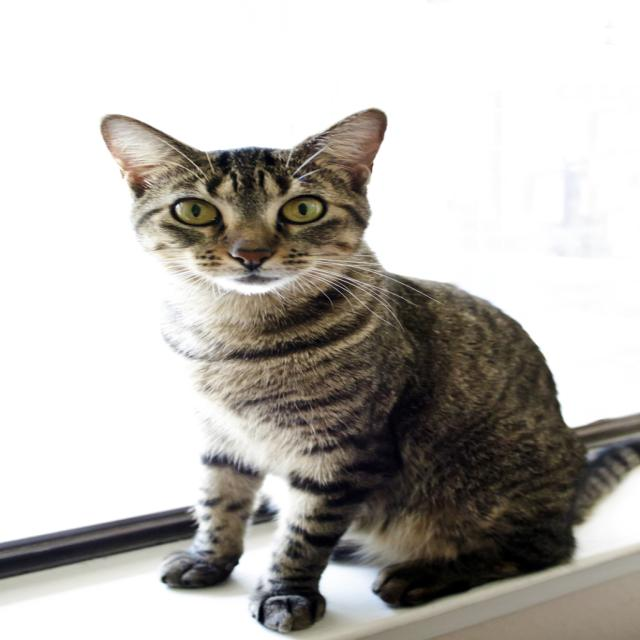Cat: (98, 106, 639, 632)
